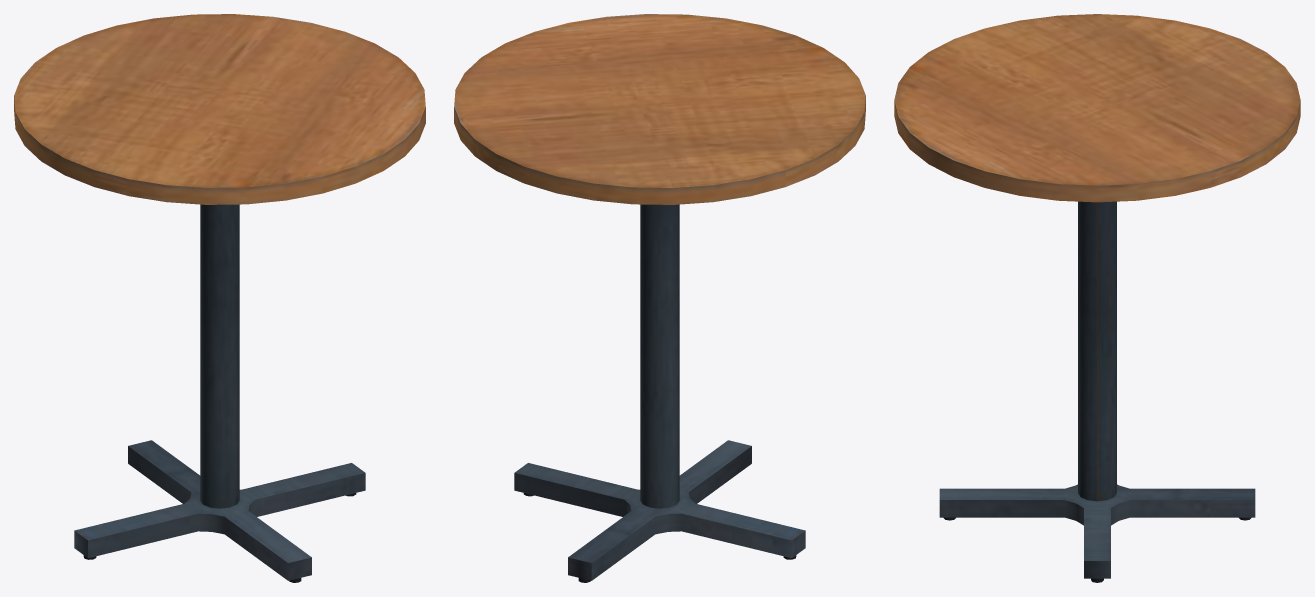
File: side-table.glb
3 views of the same model, side by side, from view 1: azimuth 30°, elevation 25°; view 2: azimuth 150°, elevation 25°; view 3: azimuth 270°, elevation 25° (orthographic).
Visible parts, largest first — view 1: Object_5; view 2: Object_5; view 3: Object_5.
Boxes of the visible parts, x1=… form: Object_5: x1=14, y1=14, x2=425, y2=582; Object_5: x1=454, y1=14, x2=865, y2=582; Object_5: x1=894, y1=14, x2=1300, y2=582.
Size of the model in its own units: 44 by 49.95 by 44.
Materials: 1 (1 with a texture image).
